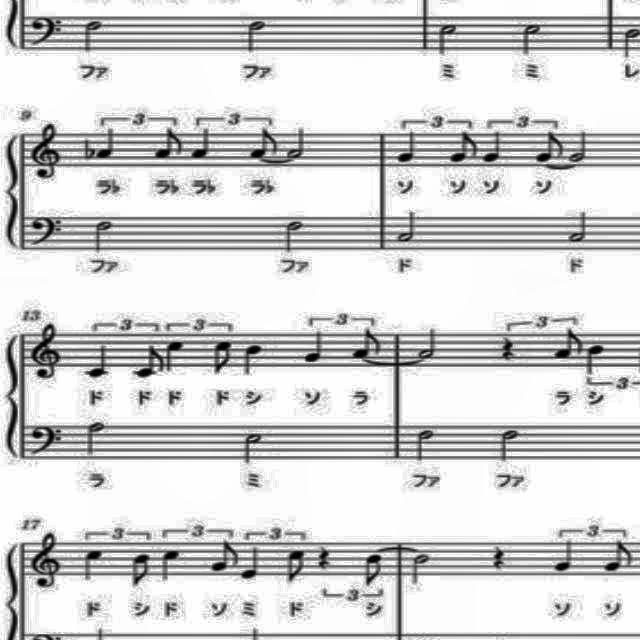Bass-clef: (24, 418, 68, 460), (26, 213, 68, 251), (29, 9, 67, 47)
Eighth-note: (546, 326, 586, 364), (204, 535, 240, 577), (129, 342, 167, 380), (246, 123, 282, 161), (150, 125, 186, 163), (600, 540, 636, 578), (532, 130, 564, 166), (446, 130, 478, 166), (348, 328, 384, 360), (124, 550, 152, 590), (359, 552, 386, 592), (283, 544, 309, 584), (210, 338, 234, 380)
Half-note: (493, 419, 527, 467), (281, 212, 311, 256), (243, 15, 273, 58), (410, 424, 442, 464), (434, 18, 462, 62), (393, 205, 422, 247), (517, 18, 547, 58), (405, 551, 435, 589), (564, 124, 592, 164), (560, 208, 590, 244), (281, 124, 311, 160), (242, 429, 270, 467), (81, 12, 105, 56), (416, 319, 440, 363), (92, 214, 116, 256), (84, 416, 106, 459)
Quarter-note: (82, 338, 112, 384), (238, 338, 266, 382), (156, 544, 184, 588), (94, 122, 122, 164), (297, 328, 329, 364), (480, 128, 508, 168), (81, 545, 107, 587), (188, 125, 216, 163), (392, 127, 420, 165), (238, 544, 262, 588), (582, 340, 606, 380), (164, 338, 188, 377), (551, 538, 577, 574)
Quarter-rest: (312, 542, 336, 574), (497, 334, 519, 364), (489, 538, 507, 574)
Treble-clef: (27, 530, 69, 594), (27, 118, 68, 182), (27, 321, 65, 384)
